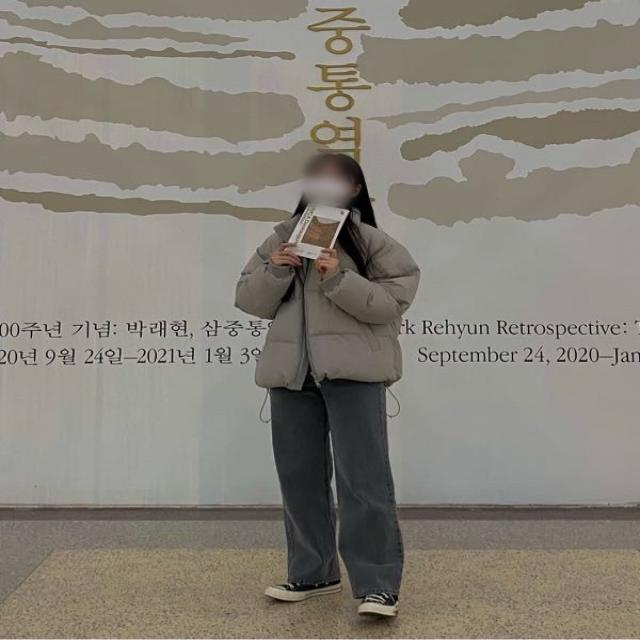denimpants: (270, 376, 406, 600)
padding: (231, 208, 422, 392)
